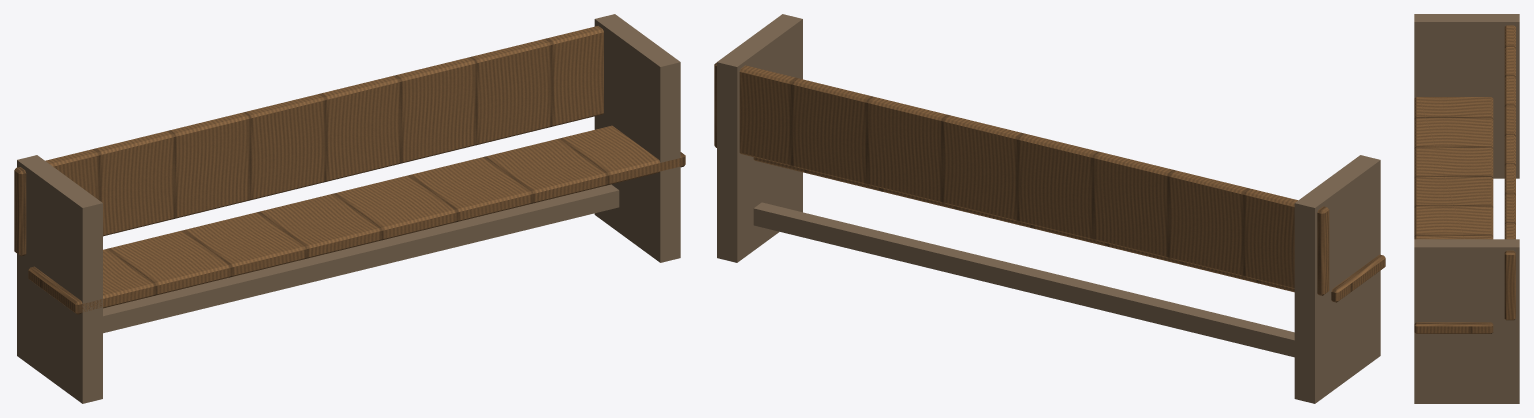
File: pew.glb
3 views of the same model, side by side, from view 1: azimuth 30°, elevation 25°; view 2: azimuth 150°, elevation 25°; view 3: azimuth 270°, elevation 25° (orthographic). The views are drawn at different scales.
Parts seen in each view (by area): view 1: pew; view 2: pew; view 3: pew.
Part boxes in pixels (<box>): pew: <box>14,14,685,403</box>; pew: <box>714,14,1385,403</box>; pew: <box>1414,14,1519,403</box>.
Size of the model in its own units: 3 by 0.92 by 0.56.
2 materials, 1 textured.
